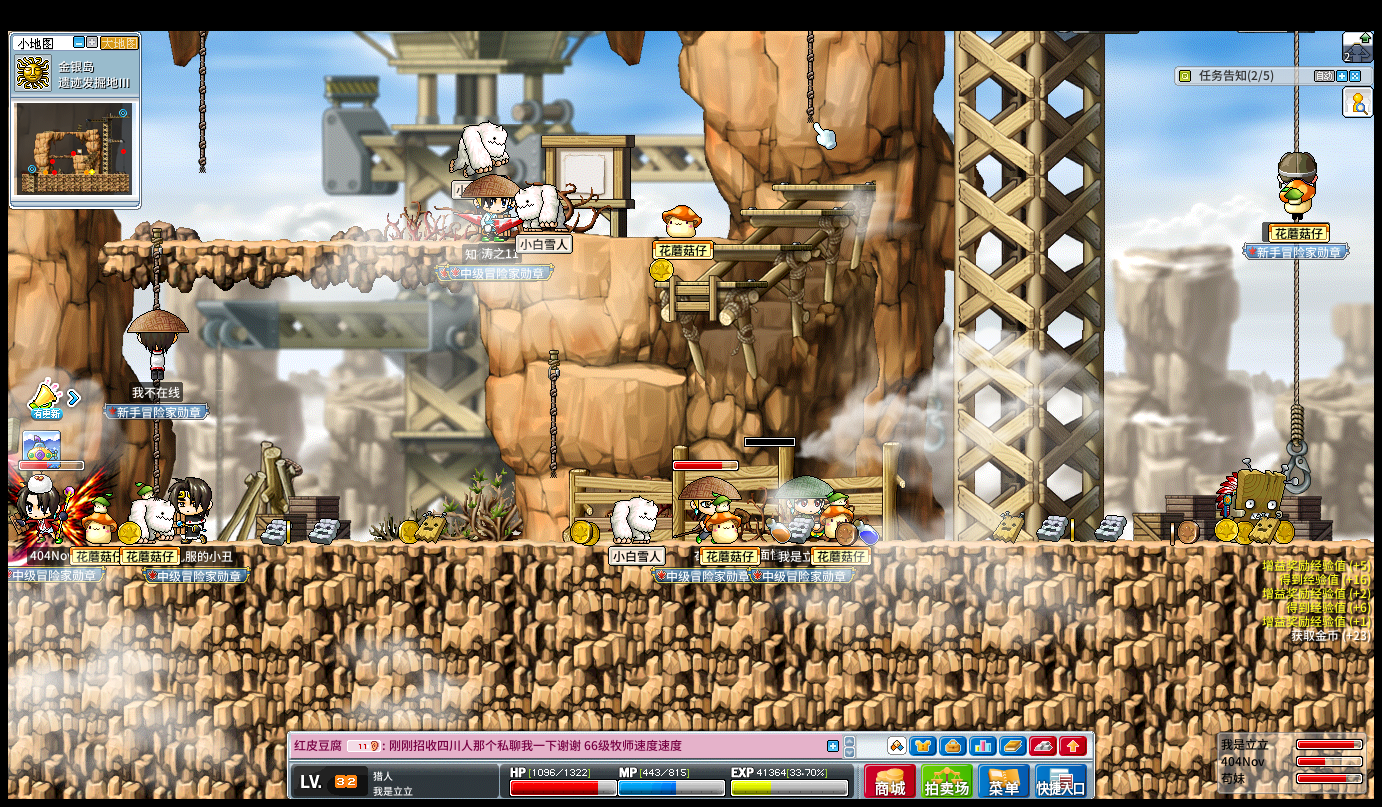floor: (102, 238, 474, 249), (579, 364, 688, 385), (604, 232, 738, 240), (649, 279, 765, 287), (704, 243, 810, 251), (736, 207, 846, 214), (771, 183, 874, 190)
monster: (1214, 460, 1295, 543)
rope: (546, 350, 561, 483), (1291, 257, 1302, 406), (198, 29, 207, 173), (150, 227, 161, 308), (1292, 29, 1299, 148), (805, 29, 813, 124), (1288, 399, 1304, 443), (151, 419, 160, 488)
